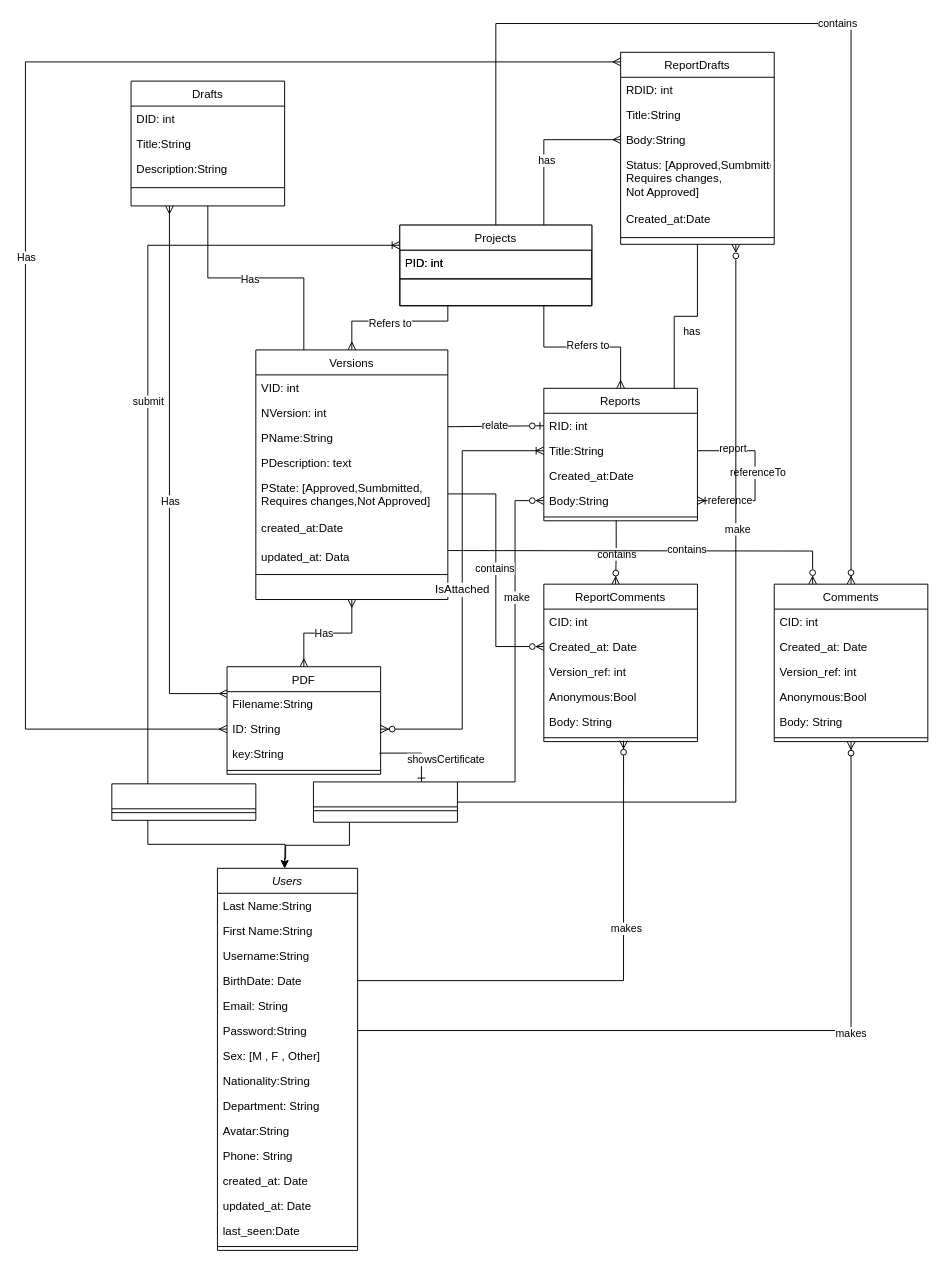
The diagram is 945 pixels wide and 1267 high, and some of its shapes have lost their labels. Each missing label, with the centre of its shape:
Researchers: point (183, 801)
Reviewer: point (384, 801)
